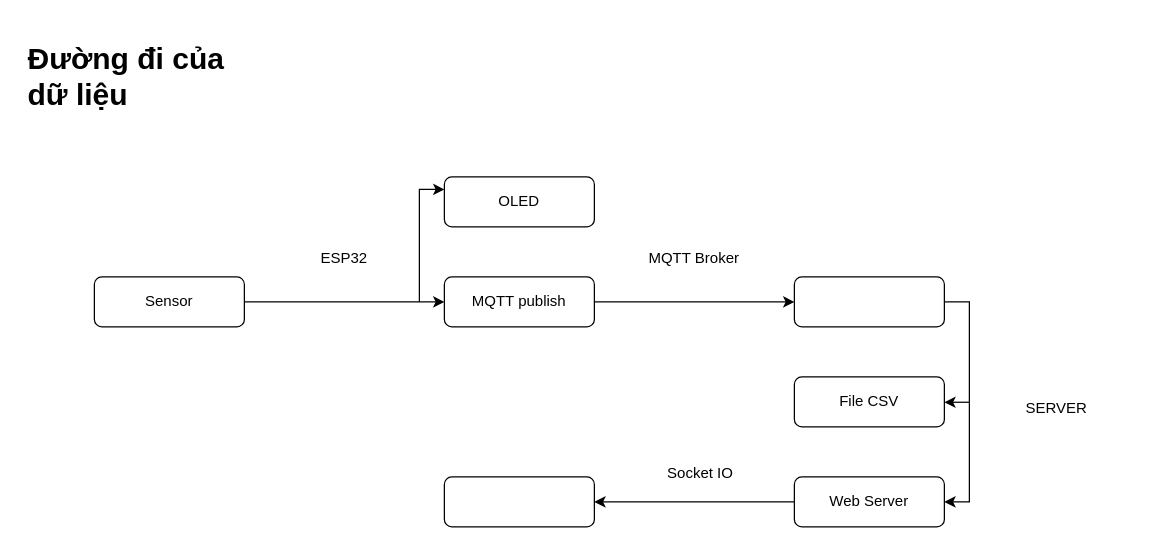
This 1153x549 diagram has some shape labels left out. Here are the shapes that lost their labels. From the top down, the centre of each, then its label:
At [868,301]: "MQTT Subscribe".
At [518,501]: "Web Virtualization".
